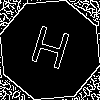H: (25, 25, 73, 79)
